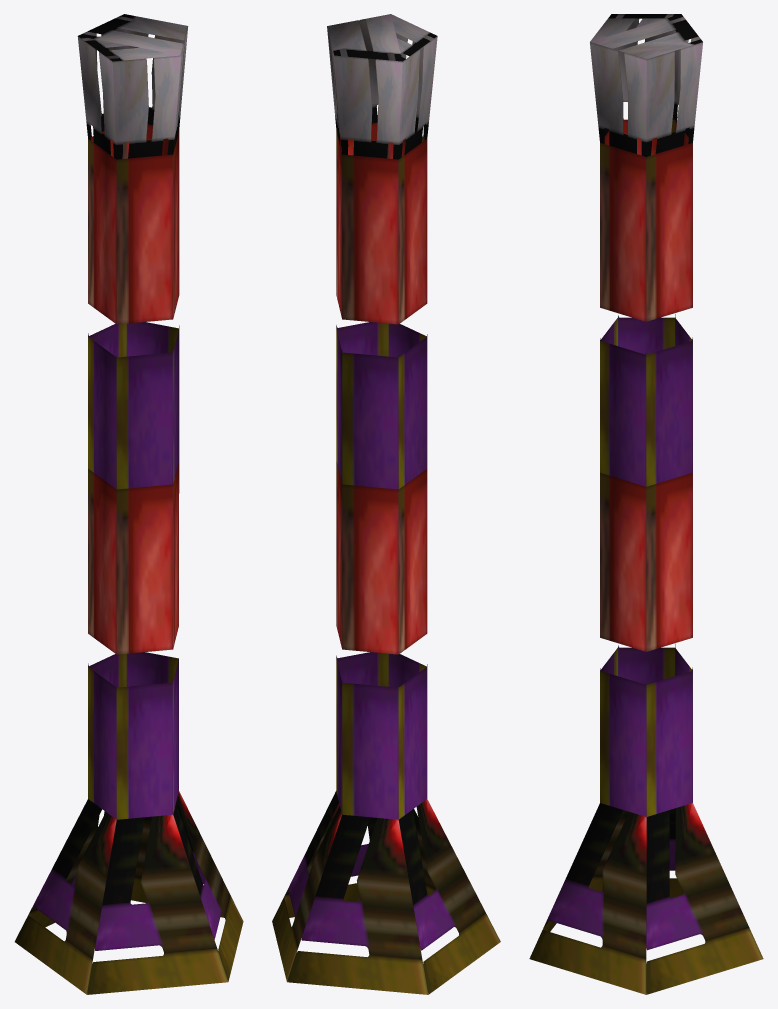
3 views of the same model, side by side, from view 1: azimuth 30°, elevation 25°; view 2: azimuth 150°, elevation 25°; view 3: azimuth 270°, elevation 25° (orthographic).
Visible parts, largest first — view 1: T1L6M004_3; view 2: T1L6M004_3; view 3: T1L6M004_3.
Part boxes in pixels (left/top/right/bottom): T1L6M004_3: left=14, top=14, right=243, bottom=994; T1L6M004_3: left=272, top=14, right=500, bottom=994; T1L6M004_3: left=529, top=14, right=763, bottom=994.
Size of the model in its own units: 0.5498 by 2.48 by 0.5791.
